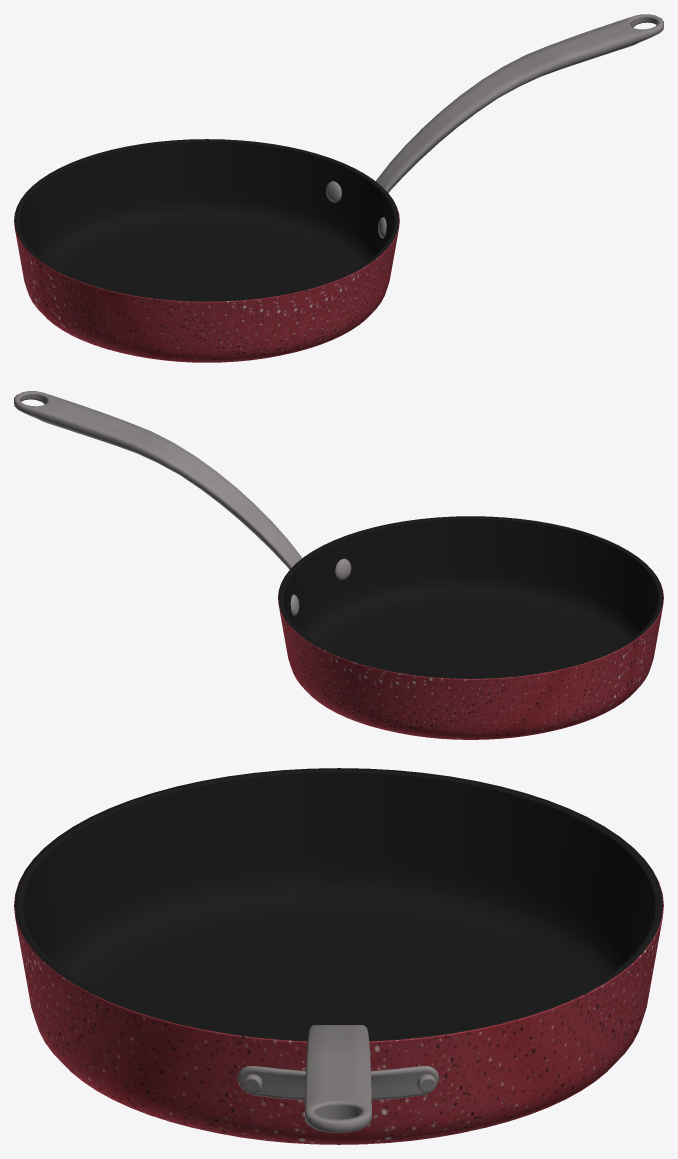
Rendered from padella38.glb.
3 renders of one model, top to bottom at view 1: azimuth 30°, elevation 25°; view 2: azimuth 150°, elevation 25°; view 3: azimuth 270°, elevation 25°, orthographic. The views are drawn at different scales.
Visible parts, largest first — view 1: contemporary_cookware_frying_pan_YBK2_FQ; view 2: contemporary_cookware_frying_pan_YBK2_FQ; view 3: contemporary_cookware_frying_pan_YBK2_FQ.
Part boxes in pixels (box(x1,y1,x2,y2)): contemporary_cookware_frying_pan_YBK2_FQ: box(14, 14, 663, 362); contemporary_cookware_frying_pan_YBK2_FQ: box(14, 391, 663, 739); contemporary_cookware_frying_pan_YBK2_FQ: box(14, 768, 663, 1144).
Bounding box in the file's own units: 59.34 × 15.05 × 31.91.
Materials: 2 (2 with a texture image).
